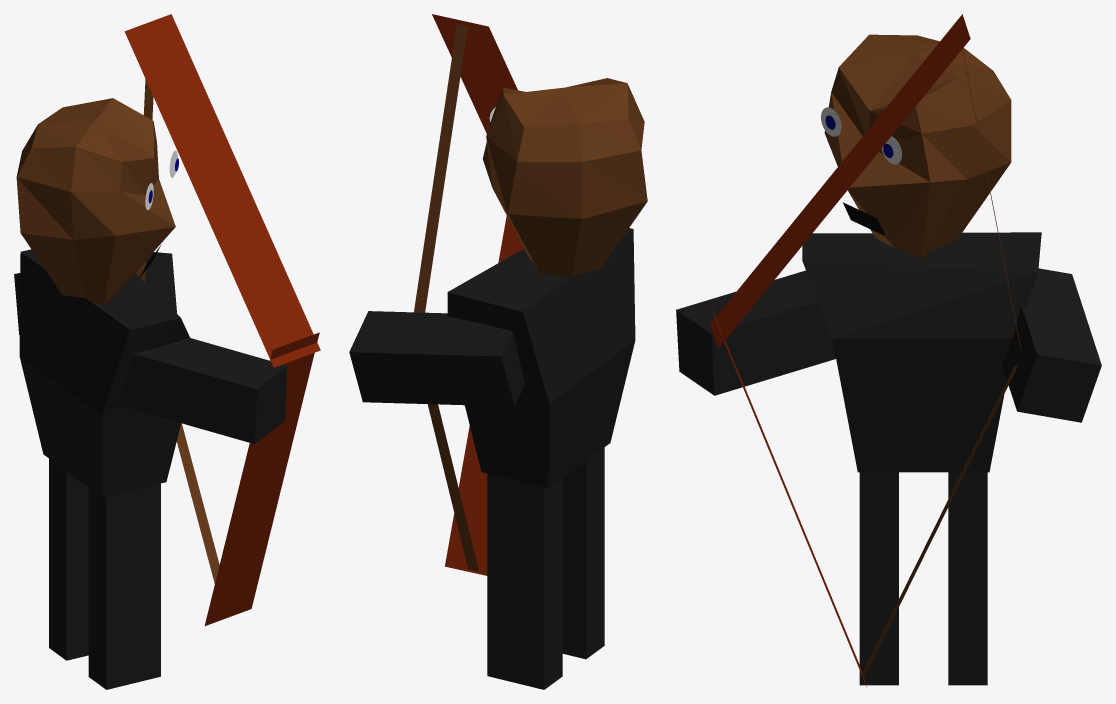
The model's file is heavyarcher1f.obj.
3 views of the same model, side by side, from view 1: azimuth 30°, elevation 25°; view 2: azimuth 150°, elevation 25°; view 3: azimuth 270°, elevation 25° (orthographic). The views are drawn at different scales.
Visible parts, largest first — view 1: Cube.001, Cube, Plane.002_Plane.003, Cube.004, Cube.003, Plane.001_Plane.002, Cube.005, Plane.003_Plane.004, Cube.002; view 2: Cube.001, Cube, Cube.005, Cube.002, Cube.004, Plane.003_Plane.004, Plane.001_Plane.002, Plane.002_Plane.003; view 3: Cube.001, Cube, Cube.003, Cube.002, Plane.002_Plane.003, Cube.005, Cube.004, Plane.003_Plane.004, Plane.001_Plane.002.
Part boxes in pixels (x1=…): Cube.001: x1=19, y1=249, x2=189, y2=497; Cube: x1=16, y1=98, x2=175, y2=304; Plane.002_Plane.003: x1=124, y1=14, x2=320, y2=367; Cube.004: x1=88, y1=483, x2=160, y2=689; Cube.003: x1=119, y1=337, x2=287, y2=444; Plane.001_Plane.002: x1=204, y1=332, x2=319, y2=625; Cube.005: x1=49, y1=458, x2=88, y2=660; Plane.003_Plane.004: x1=136, y1=30, x2=219, y2=583; Cube.002: x1=14, y1=252, x2=176, y2=334; Cube.001: x1=447, y1=228, x2=635, y2=488; Cube: x1=483, y1=78, x2=647, y2=275; Cube.005: x1=487, y1=473, x2=562, y2=689; Cube.002: x1=349, y1=311, x2=524, y2=406; Cube.004: x1=562, y1=447, x2=604, y2=659; Plane.003_Plane.004: x1=414, y1=24, x2=478, y2=571; Plane.001_Plane.002: x1=445, y1=216, x2=523, y2=575; Plane.002_Plane.003: x1=432, y1=14, x2=517, y2=133; Cube.001: x1=802, y1=232, x2=1041, y2=472; Cube: x1=824, y1=34, x2=1011, y2=258; Cube.003: x1=676, y1=270, x2=835, y2=395; Cube.002: x1=1002, y1=268, x2=1101, y2=422; Plane.002_Plane.003: x1=710, y1=14, x2=970, y2=348; Cube.005: x1=948, y1=472, x2=987, y2=685; Cube.004: x1=859, y1=472, x2=898, y2=685; Plane.003_Plane.004: x1=863, y1=49, x2=1021, y2=676; Plane.001_Plane.002: x1=711, y1=305, x2=866, y2=686.
Bounding box in the file's own units: 2.42 × 6.6 × 3.75.
